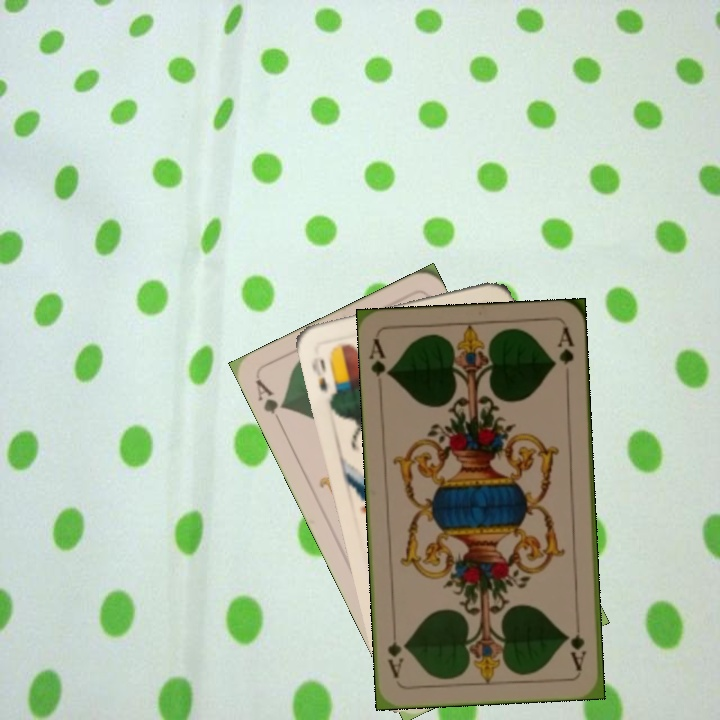EO: (307, 352, 330, 394)
GA: (251, 376, 288, 417), (566, 614, 589, 673), (366, 334, 394, 379)
